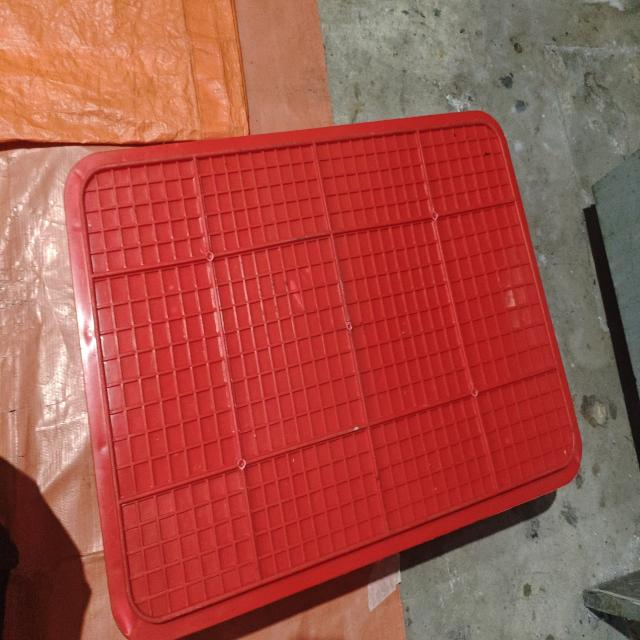red plastic box: (63, 110, 582, 640)
